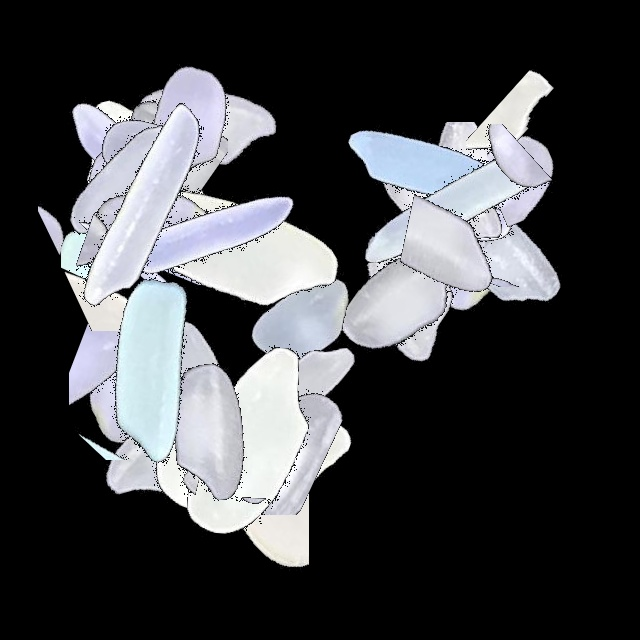Broken: (306, 122, 556, 287), (72, 0, 228, 250), (153, 390, 309, 640), (123, 361, 373, 515), (37, 24, 188, 274), (352, 178, 602, 325), (487, 38, 626, 288), (89, 151, 339, 285), (71, 266, 321, 393), (69, 259, 194, 509), (60, 179, 310, 296), (353, 124, 603, 234), (422, 116, 528, 366), (0, 226, 250, 331), (0, 361, 250, 460), (466, 34, 562, 284), (61, 113, 155, 363), (38, 75, 128, 325), (383, 201, 633, 287), (0, 209, 250, 295), (356, 159, 606, 242), (35, 431, 285, 509), (106, 497, 356, 574), (67, 407, 317, 483)
Full: (82, 0, 332, 250), (346, 127, 596, 377), (23, 60, 273, 310), (282, 161, 532, 411), (7, 70, 257, 320), (17, 52, 267, 302), (278, 175, 528, 425), (7, 260, 257, 510), (381, 132, 631, 382), (46, 319, 296, 569), (125, 338, 375, 588), (173, 194, 423, 444), (62, 0, 312, 250), (0, 58, 250, 308), (315, 63, 565, 313), (0, 52, 250, 302), (110, 117, 360, 367), (167, 277, 417, 527), (295, 35, 545, 285), (326, 83, 576, 333), (27, 104, 277, 354), (123, 316, 373, 566), (82, 309, 332, 559), (27, 244, 277, 494), (77, 107, 327, 357), (15, 83, 265, 333)
